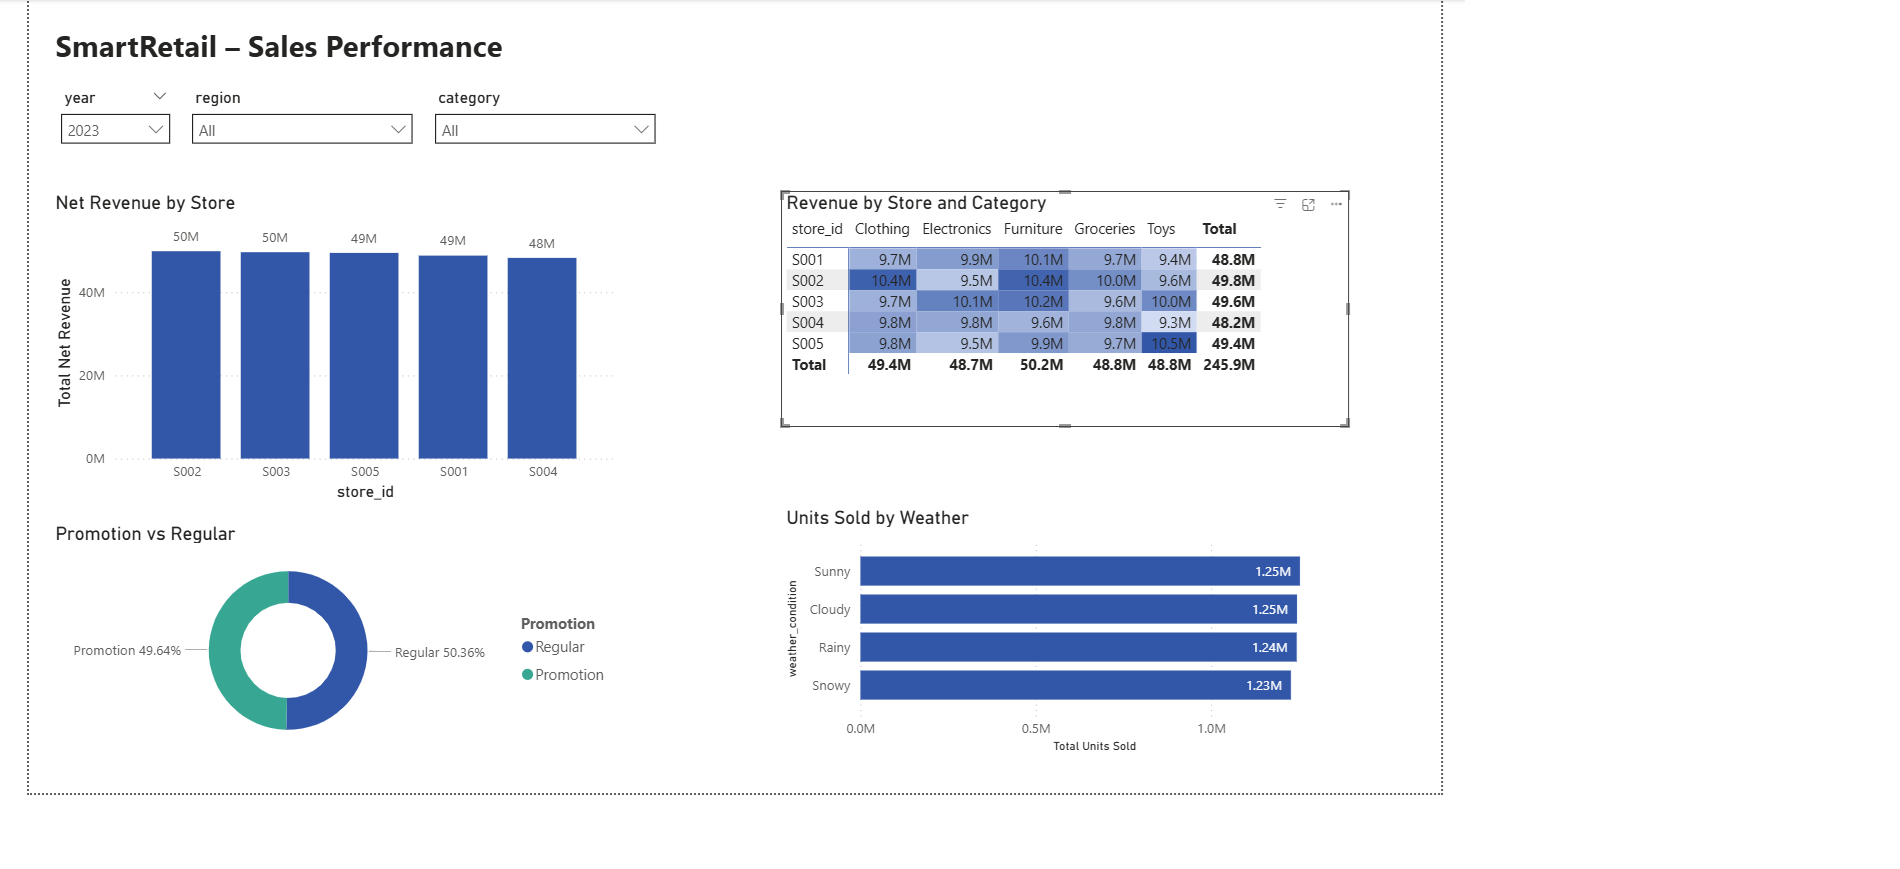

The dashboard page shown, as its layout file describes it:
{"tool":"powerbi","page":{"name":"Sales Performance","canvas":[1280,720],"ordinal":2},"visuals":[{"type":"slicer","fields":{"Values":["dim_date.year"]},"box":[19.5,75.9,118.7,74.9],"z":0},{"type":"textbox","box":[19.5,19.5,431.9,49.6],"z":1000},{"type":"slicer","fields":{"Values":["fact_store_product_daily.region"]},"box":[138.1,75.9,219.8,67.1],"z":2000},{"type":"slicer","fields":{"Values":["fact_store_product_daily.category"]},"box":[357.9,75.9,219.8,67.1],"z":3000},{"type":"clusteredColumnChart","title":"Net Revenue by Store","fields":{"Category":["dim_store.store_id"],"Y":["_Measures.Total Net Revenue"]},"box":[19,174.1,516.9,285.6],"z":4000},{"type":"pivotTable","title":"Revenue by Store and Category","fields":{"Rows":["dim_store.store_id"],"Columns":["fact_store_product_daily.category"],"Values":["_Measures.Total Net Revenue"]},"box":[681.8,174.1,515.5,214],"z":5000},{"type":"donutChart","title":"Promotion vs Regular","fields":{"Y":["_Measures.Total Net Revenue"],"Category":["fact_store_product_daily.Promotion"]},"box":[19,474.3,516.9,214],"z":6000},{"type":"clusteredBarChart","title":"Units Sold by Weather","fields":{"Category":["fact_store_product_daily.weather_condition"],"Y":["_Measures.Total Units Sold"]},"box":[681.9,459.7,516,228.5],"z":7000}]}

Visuals, with their boxes on the page's 1280x720 design canvas (x1, y1, x2, y2). These are canvas units, not pixel positions in the 1900x869 screenshot, which may show the page scaled, cropped or inside an application window:
slicer - dim_date.year: [20,76,138,151]
textbox: [20,20,451,69]
slicer - fact_store_product_daily.region: [138,76,358,143]
slicer - fact_store_product_daily.category: [358,76,578,143]
"Net Revenue by Store" clusteredColumnChart: [19,174,536,460]
"Revenue by Store and Category" pivotTable: [682,174,1197,388]
"Promotion vs Regular" donutChart: [19,474,536,688]
"Units Sold by Weather" clusteredBarChart: [682,460,1198,688]
